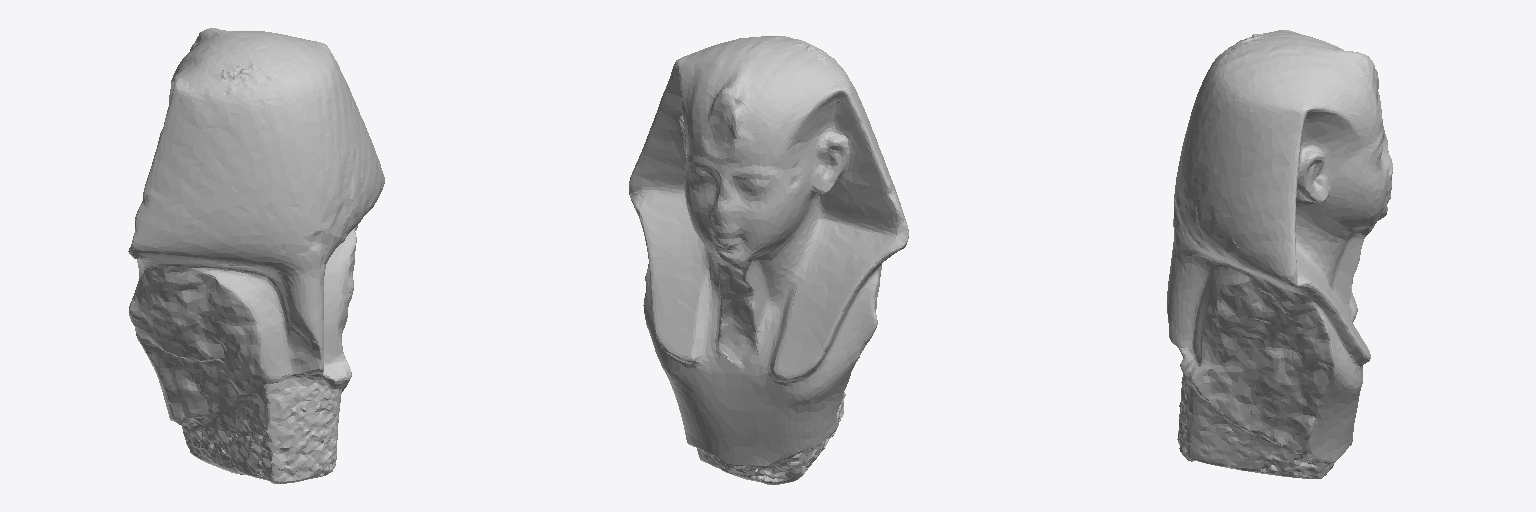
Rendered from rameses_redux_3.obj.
3 renders of one model, left to right at view 1: azimuth 30°, elevation 25°; view 2: azimuth 150°, elevation 25°; view 3: azimuth 270°, elevation 25°, orthographic.
Visible parts, largest first — view 1: rameses_redux_2.obj; view 2: rameses_redux_2.obj; view 3: rameses_redux_2.obj.
Part boxes in pixels (bbox=[...]): rameses_redux_2.obj: bbox=[128, 28, 384, 483]; rameses_redux_2.obj: bbox=[629, 36, 908, 484]; rameses_redux_2.obj: bbox=[1167, 30, 1392, 478].
Bounding box in the file's own units: 11.13 × 16.88 × 8.22.